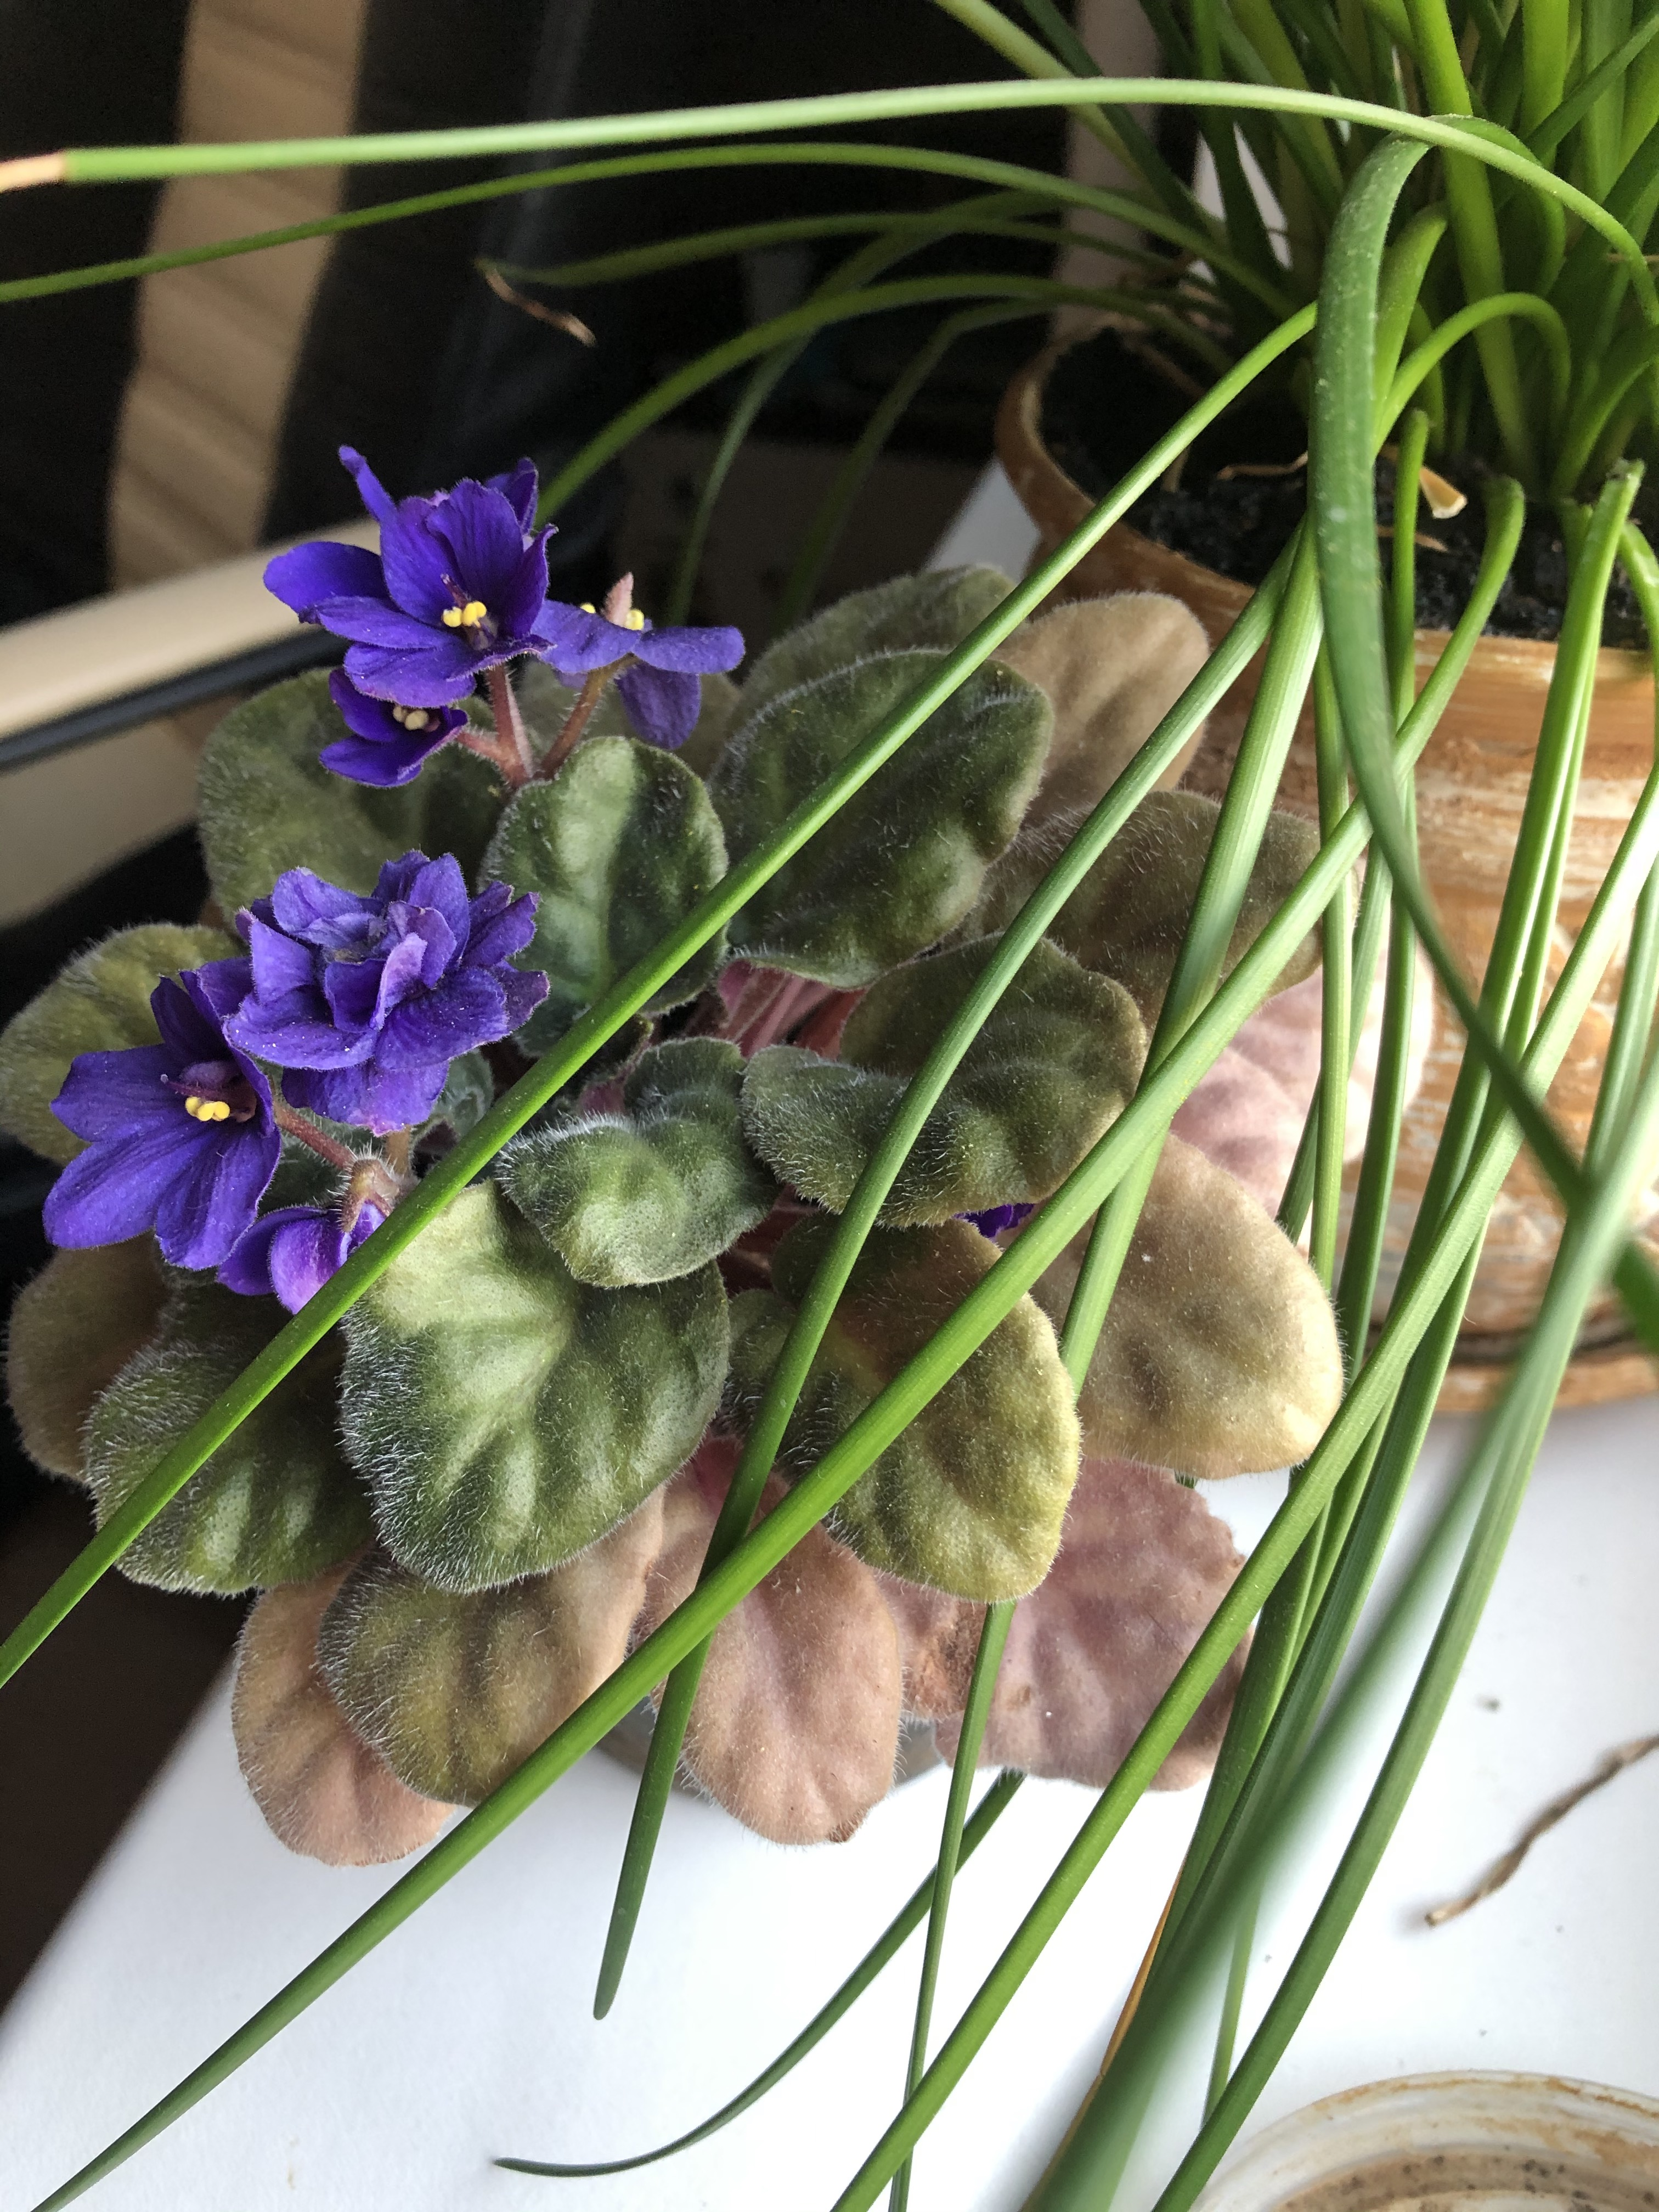ignore: (5, 368, 1370, 1843)
